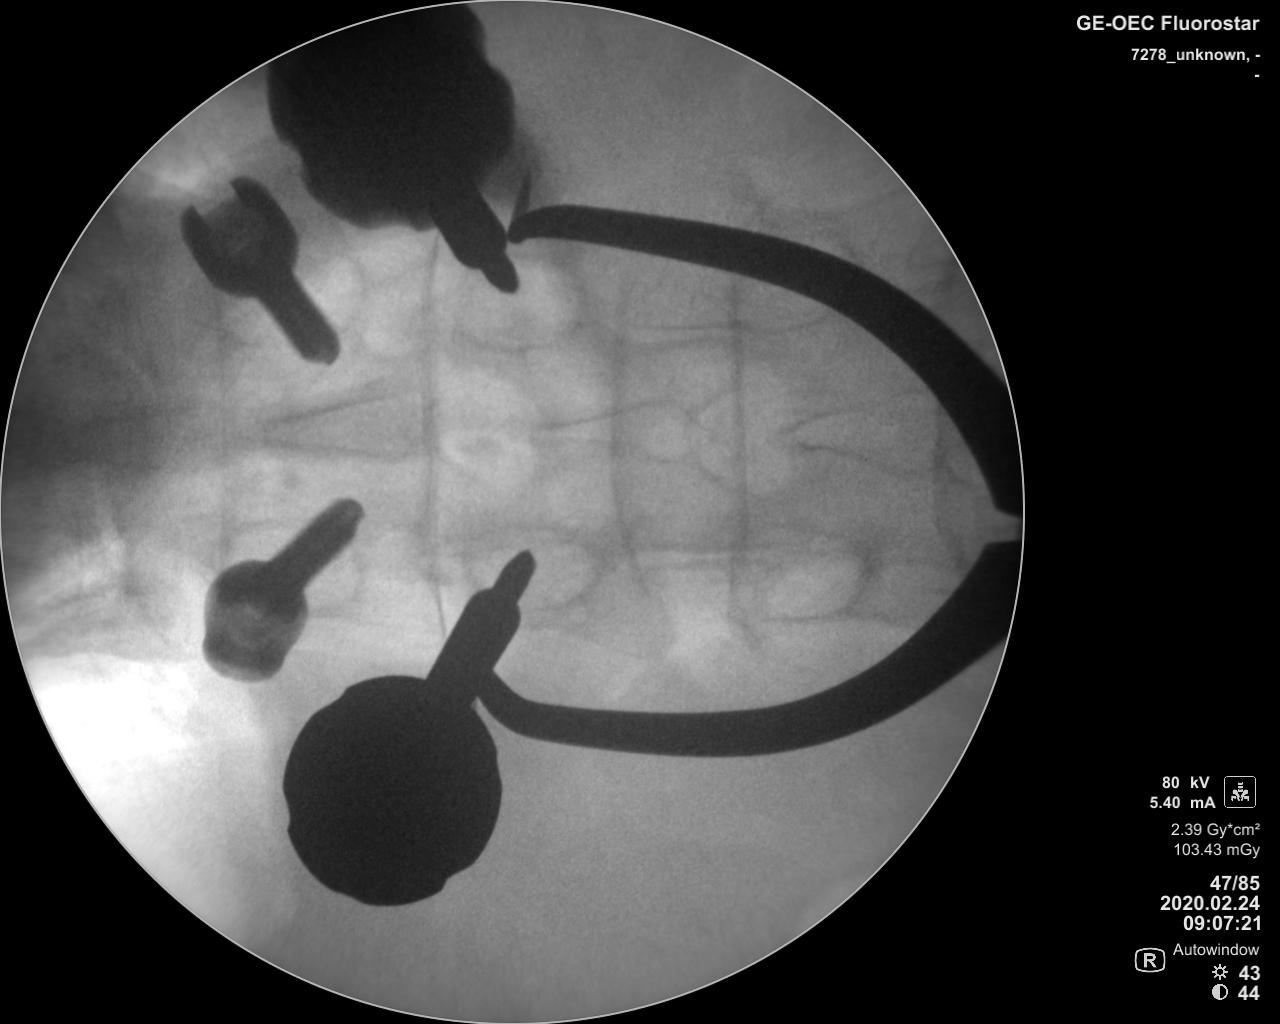eyes: (224, 516, 365, 614), (227, 238, 369, 334), (447, 251, 584, 350), (747, 527, 869, 616), (465, 523, 596, 607)
line: (415, 236, 451, 638), (608, 261, 650, 608), (724, 274, 757, 568), (922, 411, 962, 566), (211, 296, 234, 563)
nose: (245, 379, 424, 470), (761, 396, 948, 478), (529, 394, 702, 467)
